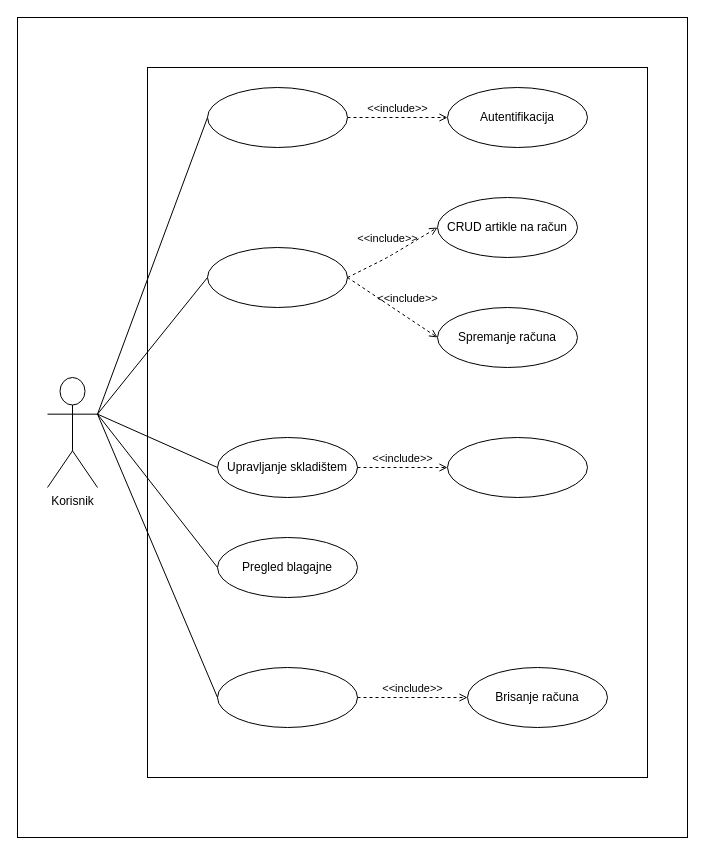
Image size: 705x855. Some labels were removed from this diagram. Each missing label, with the centre of its shape:
"Dodavanje količine" belongs at point 517,467.
"Izradi račun" belongs at point 277,277.
"Pregled izvješća" belongs at point 287,697.
"Prijavi se" belongs at point 277,117.
